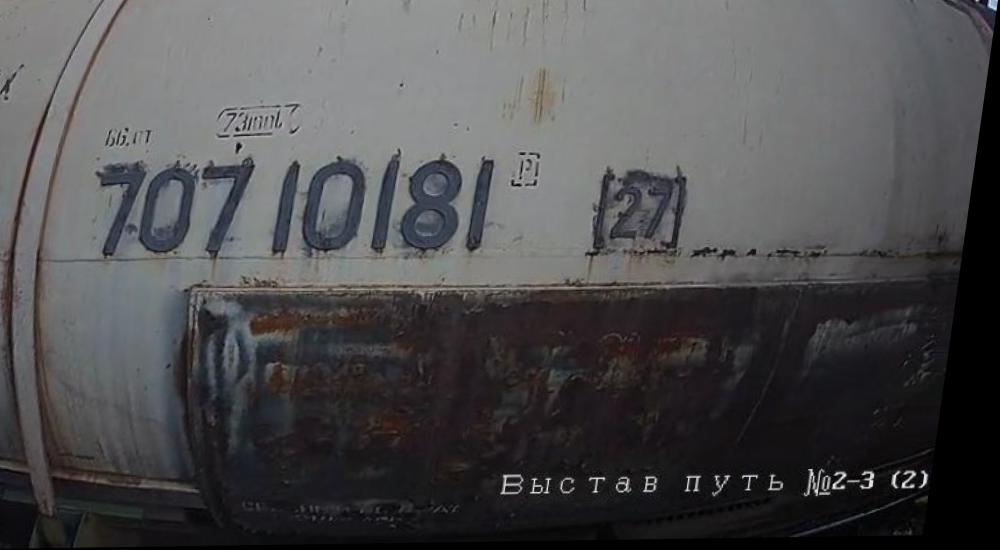Wagon-number: (90, 153, 510, 262)
